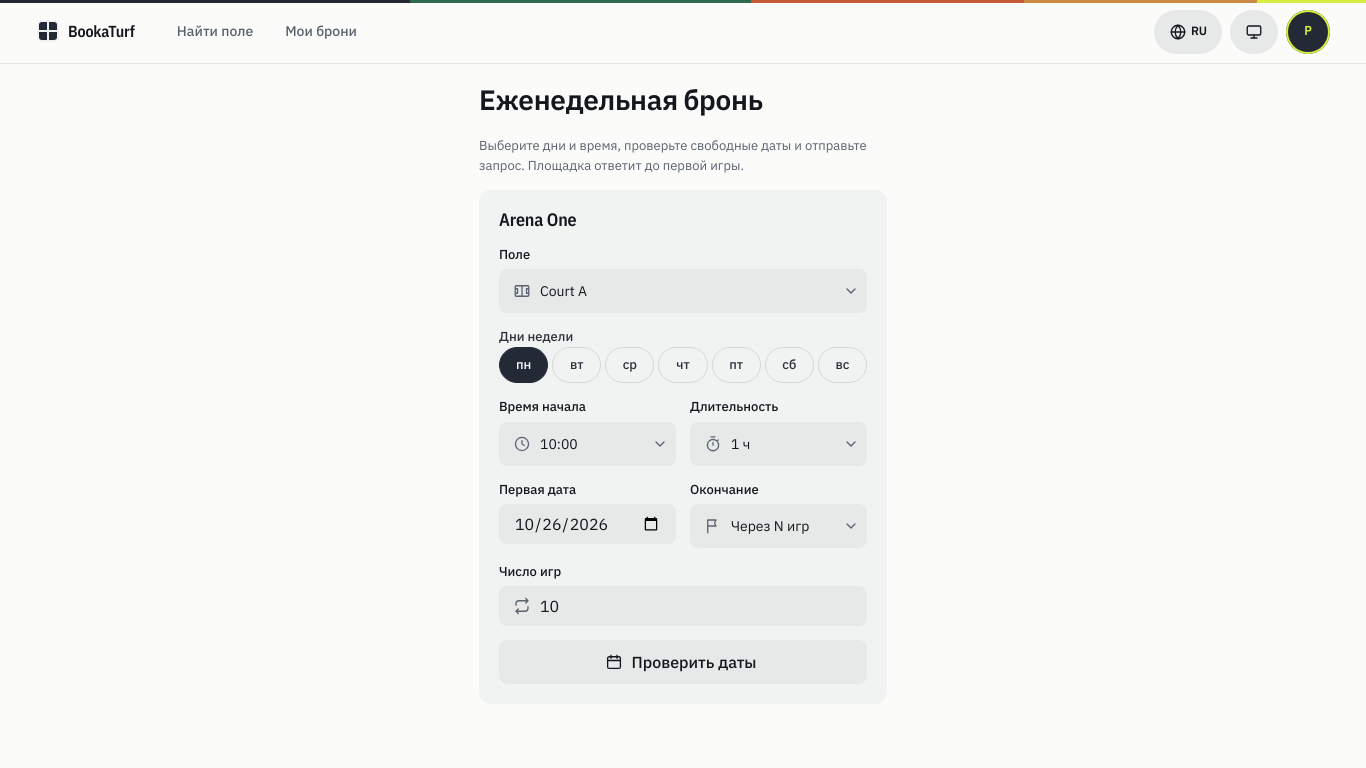
Scenario: request weekly booking › renders in Russian
expect the heading "Еженедельная бронь" is shown: met, box [479,81,763,118]
expect the dropdown labelled "Время начала" shows "10:00": met, box [499,422,676,466]
Step 1. Click the button "Проверить даты" → (683, 662), box [499,640,867,684]
(page scrolled)
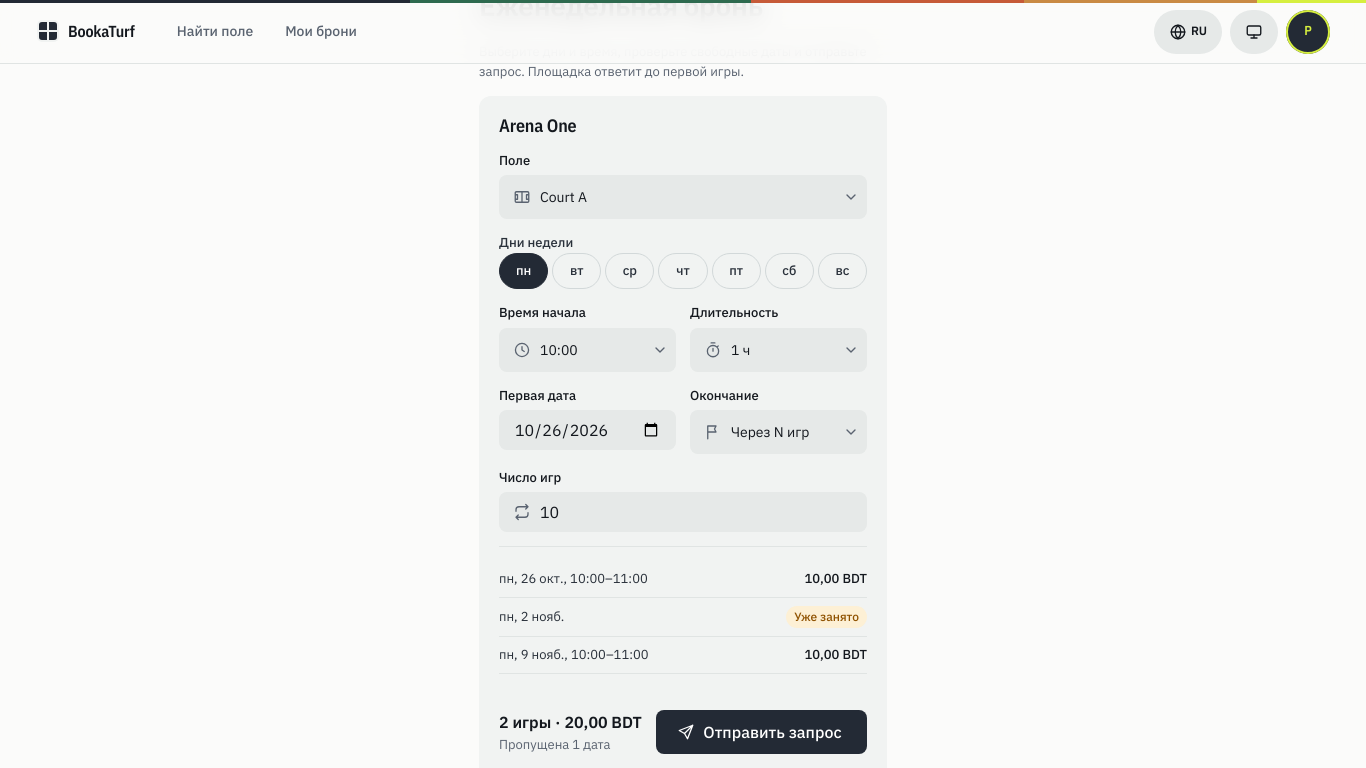
expect the button "Отправить запрос" is shown: met, box [656,710,867,754]
